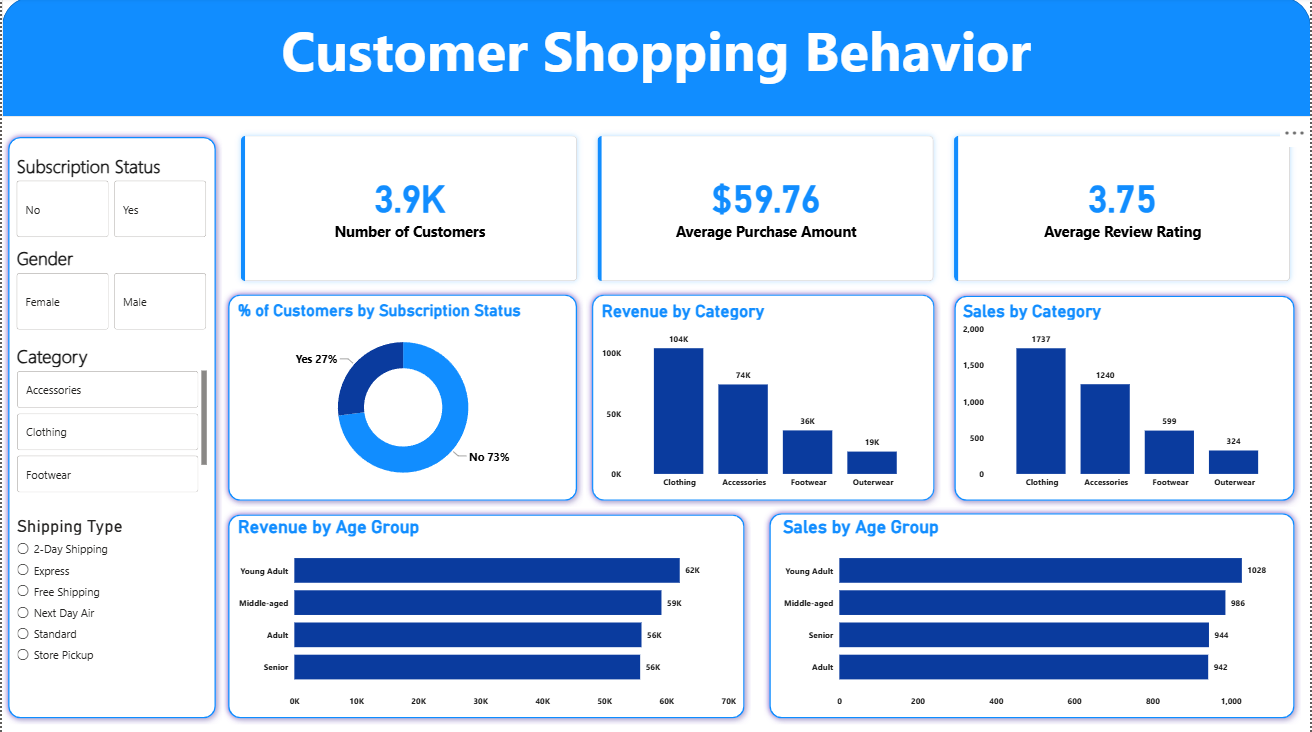

The page's visual inventory and layout, read from the dashboard file:
{"tool":"powerbi","page":{"name":"Customer Shopping Behavior","canvas":[1920,1080],"ordinal":0},"visuals":[{"type":"cardVisual","fields":{"Data":["public customer.Number of Customers","public customer.Average Purchase Amount","public customer.Average Review Rating"]},"box":[322.8,176.1,1597.6,269.6],"z":0},{"type":"shape","box":[0,0,1920.5,176.1],"z":1000},{"type":"textbox","box":[0,0,1920.5,176.1],"z":2000},{"type":"shape","box":[322.8,427.4,530.1,321],"z":3000},{"type":"donutChart","title":"% of Customers by Subscription Status","fields":{"Category":["public customer.subscription_status"],"Y":["CountNonNull(public customer.customer_id)"]},"box":[341.2,445.7,495.2,286.1],"z":4000},{"type":"shape","box":[856.6,427.4,520.9,321],"z":5000},{"type":"shape","box":[1388.5,429.2,517.3,319.2],"z":6000},{"type":"shape","box":[322.8,750.2,775.9,317.3],"z":7000},{"type":"shape","box":[1117.1,748.4,788.7,319.2],"z":8000},{"type":"clusteredColumnChart","title":"Revenue by Category","fields":{"Category":["public customer.category"],"Y":["Sum(public customer.purchase_amount)"]},"box":[874.9,445.7,484.2,284.3],"z":9000},{"type":"clusteredColumnChart","title":"Sales by Category","fields":{"Category":["public customer.category"],"Y":["CountNonNull(public customer.customer_id)"]},"box":[1405,445.7,484.2,284.3],"z":10000},{"type":"shape","box":[0,196.3,322.8,871.3],"z":11000},{"type":"advancedSlicerVisual","title":"Subscription Status","fields":{"Values":["public customer.subscription_status"]},"box":[16.5,229.3,289.8,128.4],"z":12000},{"type":"advancedSlicerVisual","title":"Gender","fields":{"Values":["public customer.gender"]},"box":[16.5,365,289.8,128.4],"z":13000},{"type":"advancedSlicerVisual","title":"Category","fields":{"Values":["public customer.category"]},"box":[16.5,508.1,289.8,223.8],"z":14000},{"type":"listSlicer","title":"Shipping Type","fields":{"Values":["public customer.shipping_type"]},"box":[16.5,761.2,289.8,293.5],"z":15000},{"type":"clusteredBarChart","title":"Revenue by Age Group","fields":{"Category":["public customer.age_group"],"Y":["Sum(public customer.purchase_amount)"]},"box":[341.2,761.2,741,289.8],"z":15001},{"type":"clusteredBarChart","title":"Sales by Age Group","fields":{"Category":["public customer.age_group"],"Y":["CountNonNull(public customer.customer_id)"]},"box":[1140.9,761.2,741,289.8],"z":15002}]}

Visuals, with their boxes in screenshot pixels (x1, y1, x2, y2), scaled from the page's 1920x1080 canvas onto the 1312x732 screenshot:
cardVisual - public customer.Number of Customers x public customer.Average Purchase Amount: select_region(221, 119, 1311, 302)
shape: select_region(0, 0, 1311, 119)
textbox: select_region(0, 0, 1311, 119)
shape: select_region(221, 290, 583, 507)
"% of Customers by Subscription Status" donutChart: select_region(233, 302, 572, 496)
shape: select_region(585, 290, 941, 507)
shape: select_region(949, 291, 1302, 507)
shape: select_region(221, 508, 751, 724)
shape: select_region(763, 507, 1302, 724)
"Revenue by Category" clusteredColumnChart: select_region(598, 302, 929, 495)
"Sales by Category" clusteredColumnChart: select_region(960, 302, 1291, 495)
shape: select_region(0, 133, 221, 724)
"Subscription Status" advancedSlicerVisual: select_region(11, 155, 209, 242)
"Gender" advancedSlicerVisual: select_region(11, 247, 209, 334)
"Category" advancedSlicerVisual: select_region(11, 344, 209, 496)
"Shipping Type" listSlicer: select_region(11, 516, 209, 715)
"Revenue by Age Group" clusteredBarChart: select_region(233, 516, 740, 712)
"Sales by Age Group" clusteredBarChart: select_region(780, 516, 1286, 712)
